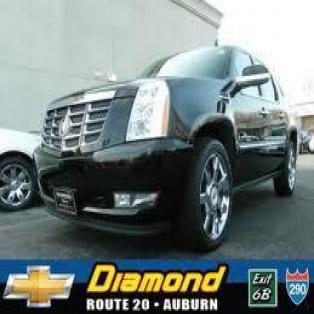Auto: (31, 42, 300, 246)
